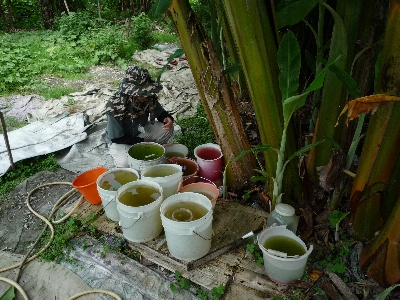bucket: (160, 192, 214, 262), (257, 224, 309, 282), (116, 179, 163, 243), (96, 166, 139, 221), (71, 166, 108, 205), (194, 143, 222, 180), (266, 203, 299, 234)
plastic_bag: (163, 71, 196, 116)
